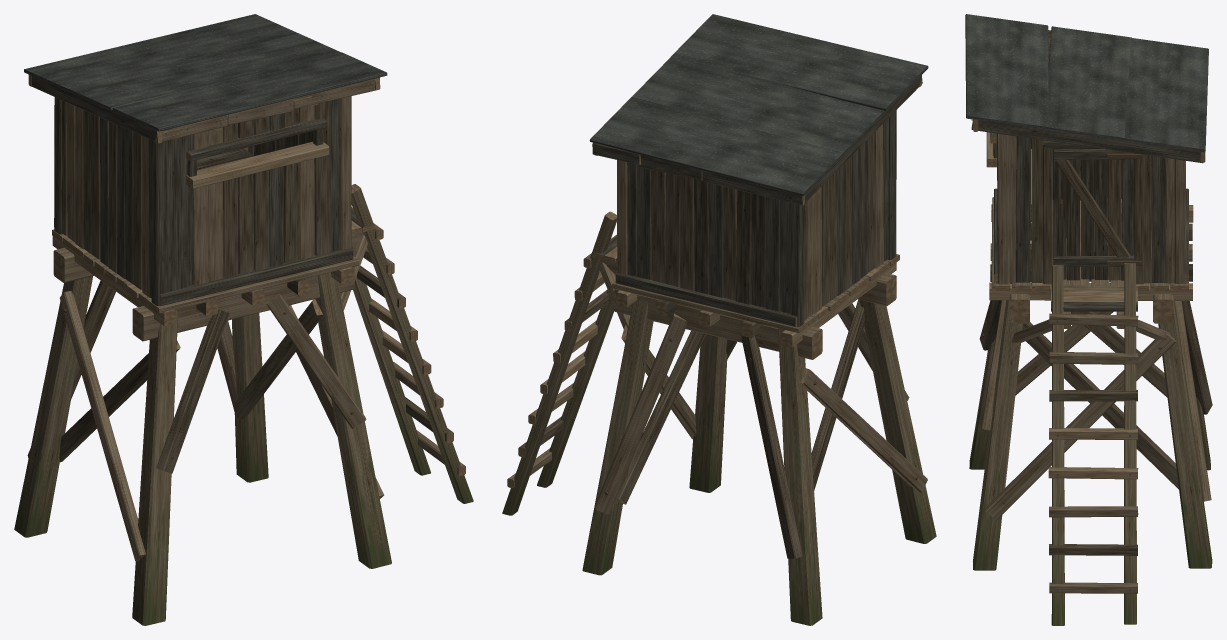
The model's file is hunting_tower.glb.
3 views of the same model, side by side, from view 1: azimuth 30°, elevation 25°; view 2: azimuth 150°, elevation 25°; view 3: azimuth 270°, elevation 25° (orthographic). The views are drawn at different scales.
Visible parts, largest first — view 1: 05 • Cabin, window and door, 01 • Hewn legs, 06 • Shed roof and eaves, 02 • Diagonal bracing, 04 • Access ladder and landing, 03 • Deck and underfloor framing; view 2: 06 • Shed roof and eaves, 05 • Cabin, window and door, 01 • Hewn legs, 02 • Diagonal bracing, 04 • Access ladder and landing, 03 • Deck and underfloor framing; view 3: 06 • Shed roof and eaves, 05 • Cabin, window and door, 04 • Access ladder and landing, 02 • Diagonal bracing, 01 • Hewn legs, 03 • Deck and underfloor framing, 07 • Brace bolts and hinges.
Boxes of the visible parts, x1,y1,x2,y2 form: 05 • Cabin, window and door: (54,96,353,305); 01 • Hewn legs: (14,272,391,625); 06 • Shed roof and eaves: (24,14,387,143); 02 • Diagonal bracing: (27,280,383,561); 04 • Access ladder and landing: (340,184,473,503); 03 • Deck and underfloor framing: (52,229,359,341); 06 • Shed roof and eaves: (589,14,928,205); 05 • Cabin, window and door: (615,110,896,327); 01 • Hewn legs: (582,298,936,625); 02 • Diagonal bracing: (594,299,927,558); 04 • Access ladder and landing: (502,211,630,515); 03 • Deck and underfloor framing: (612,254,899,359); 06 • Shed roof and eaves: (965,14,1208,163); 05 • Cabin, window and door: (986,132,1188,284); 04 • Access ladder and landing: (1012,263,1170,625); 02 • Diagonal bracing: (979,261,1212,520); 01 • Hewn legs: (969,300,1212,570); 03 • Deck and underfloor framing: (989,197,1193,323); 07 • Brace bolts and hinges: (982,153,1207,504).
Bounding box in the file's own units: 3.14 × 3.96 × 1.97.
Materials: 3 (1 with a texture image).
